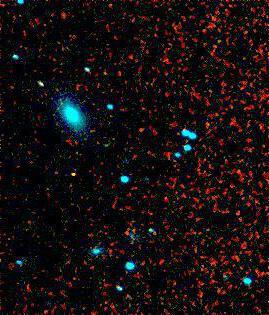star: (57, 159, 87, 189)
